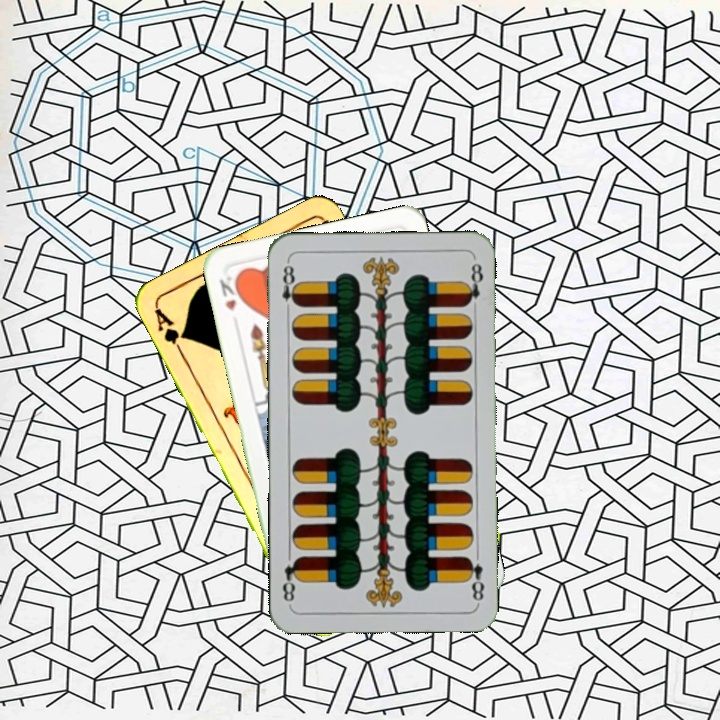E8: (278, 258, 301, 317), (462, 552, 487, 605)
GA: (150, 304, 190, 359)
HK: (215, 272, 245, 314)
